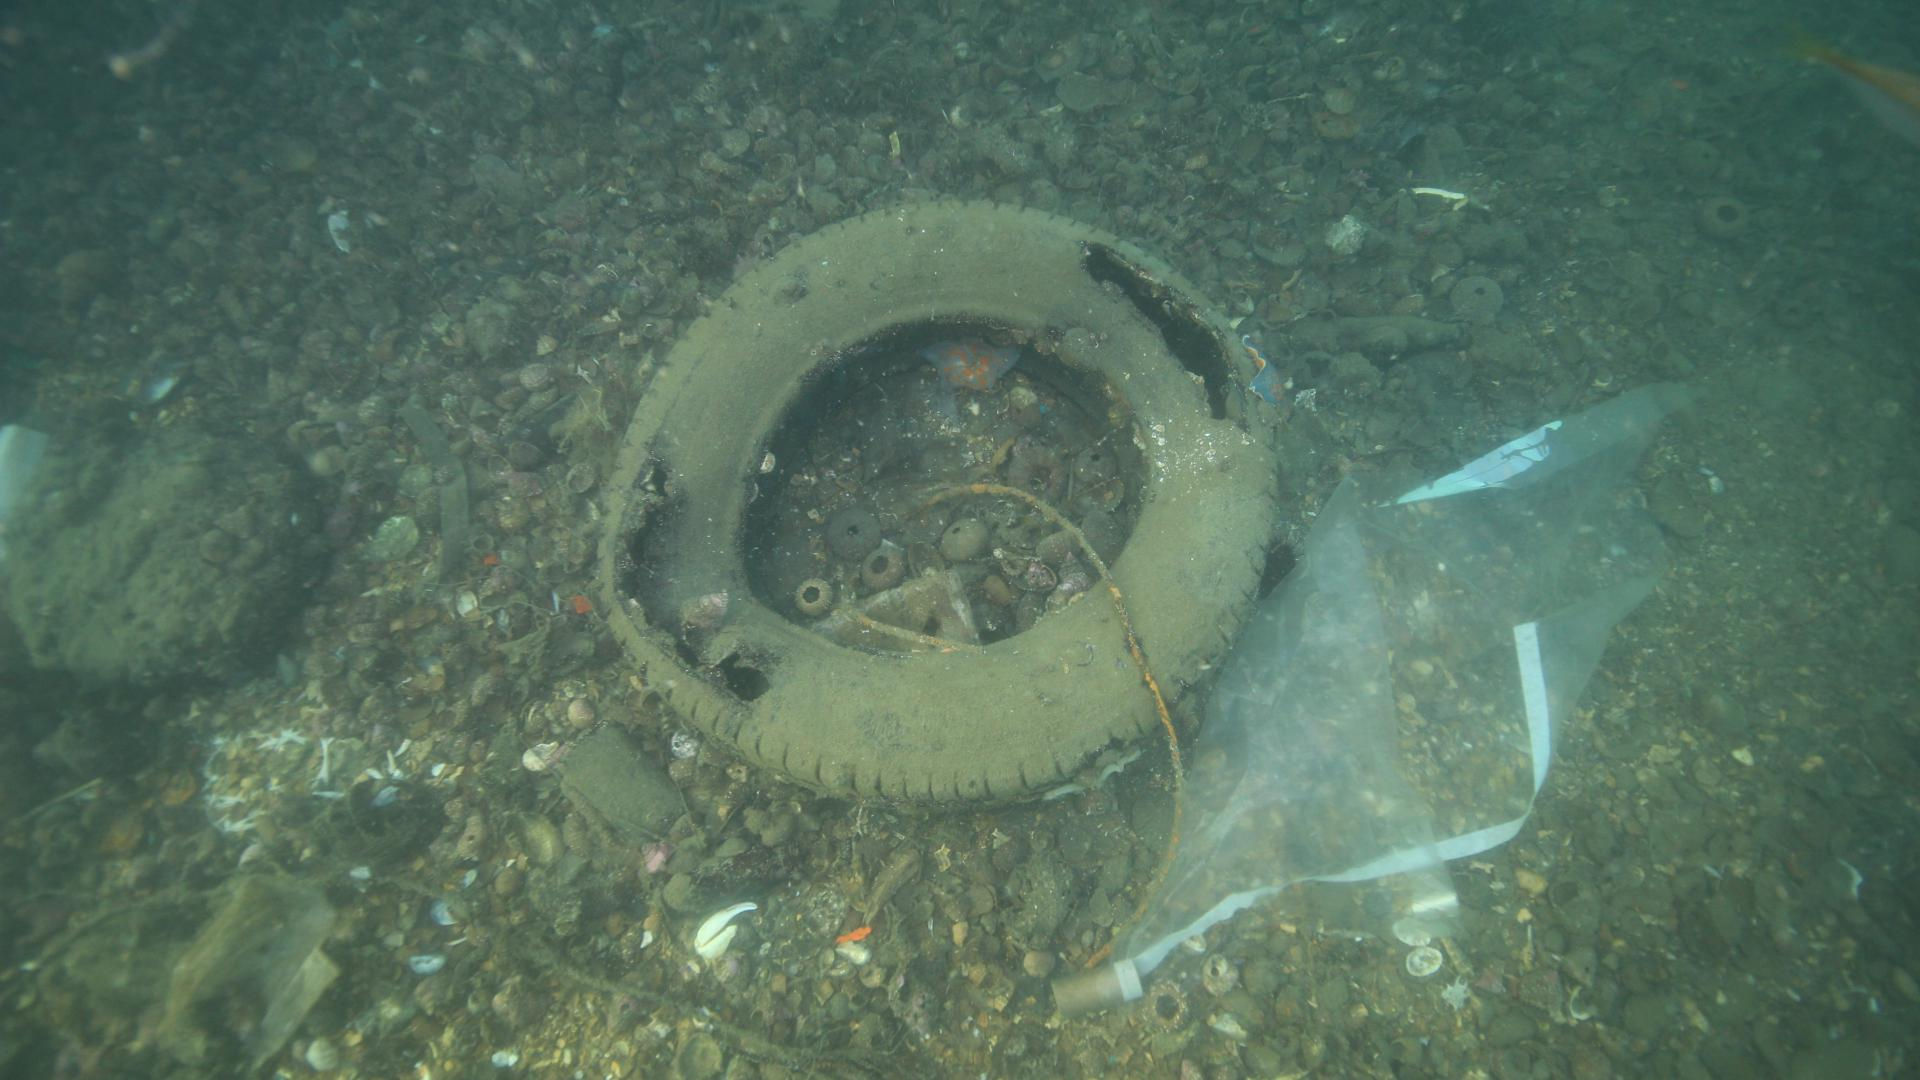tire: (585, 196, 1288, 803)
